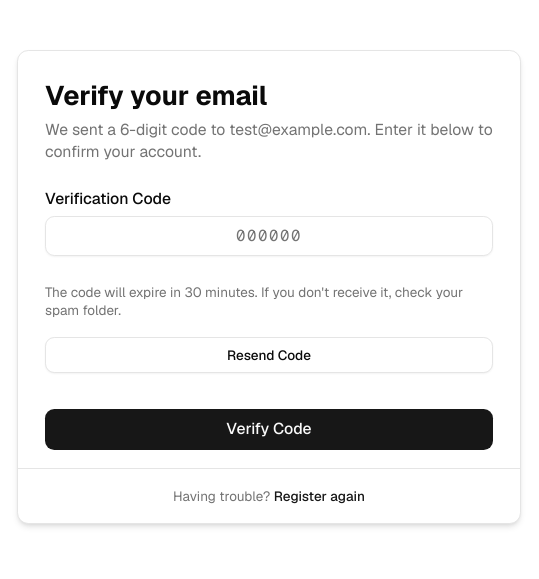
it: VerificationForm Component › Input Handling › should clear server error message when user types in the input
Submit invalid form to trigger server error
Type "123456" into the field with placeholder "000000" at coordinates (269, 236), box x1=45 y1=216 x2=493 y2=256
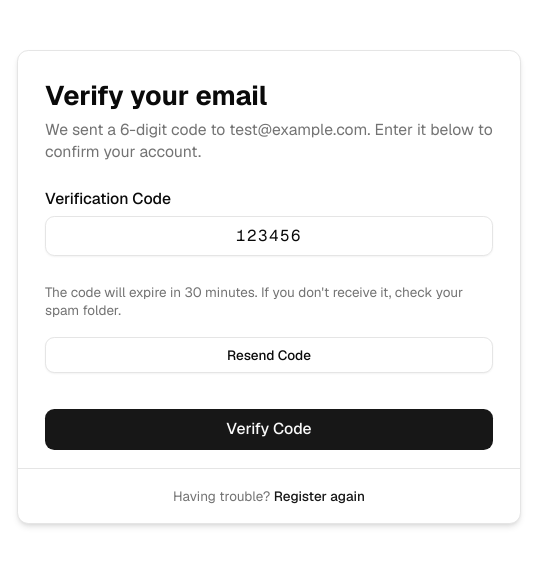
Click the button "Verify Code" at coordinates (269, 429), box x1=45 y1=409 x2=493 y2=450
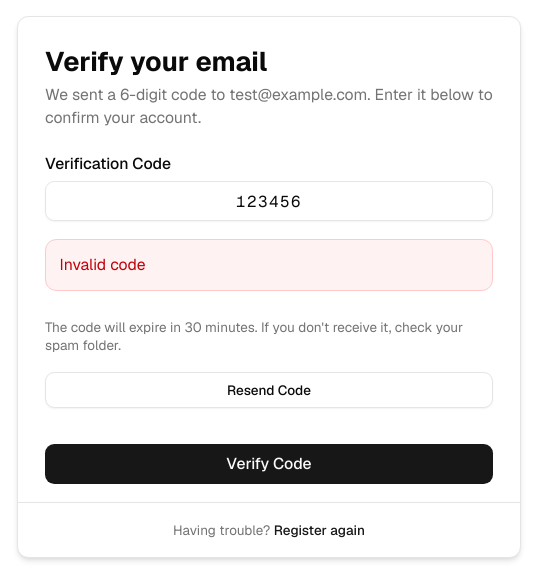
Expected: the text "Invalid code" is shown, x1=45 y1=239 x2=493 y2=291
Type in the input
Replace the text in the field with placeholder "000000" with "654321" at coordinates (269, 201), box x1=45 y1=181 x2=493 y2=221
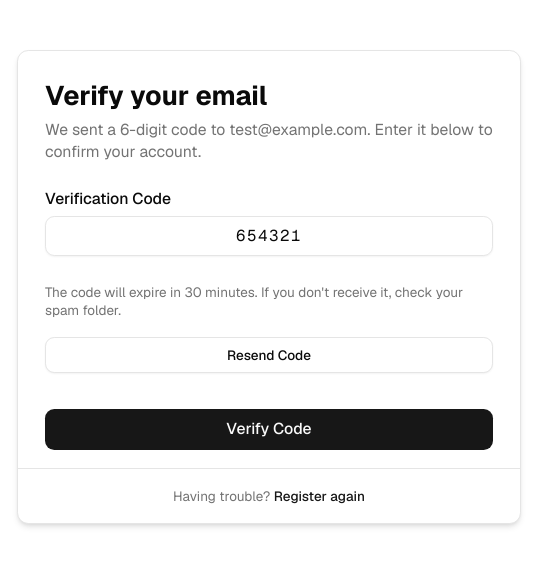
Expected: the text "Invalid code" is gone
